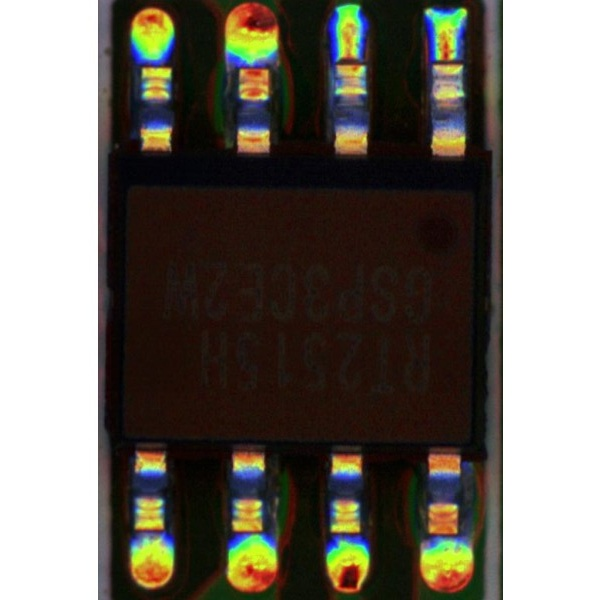Bad_podu: (432, 35, 456, 76), (342, 35, 358, 79)
